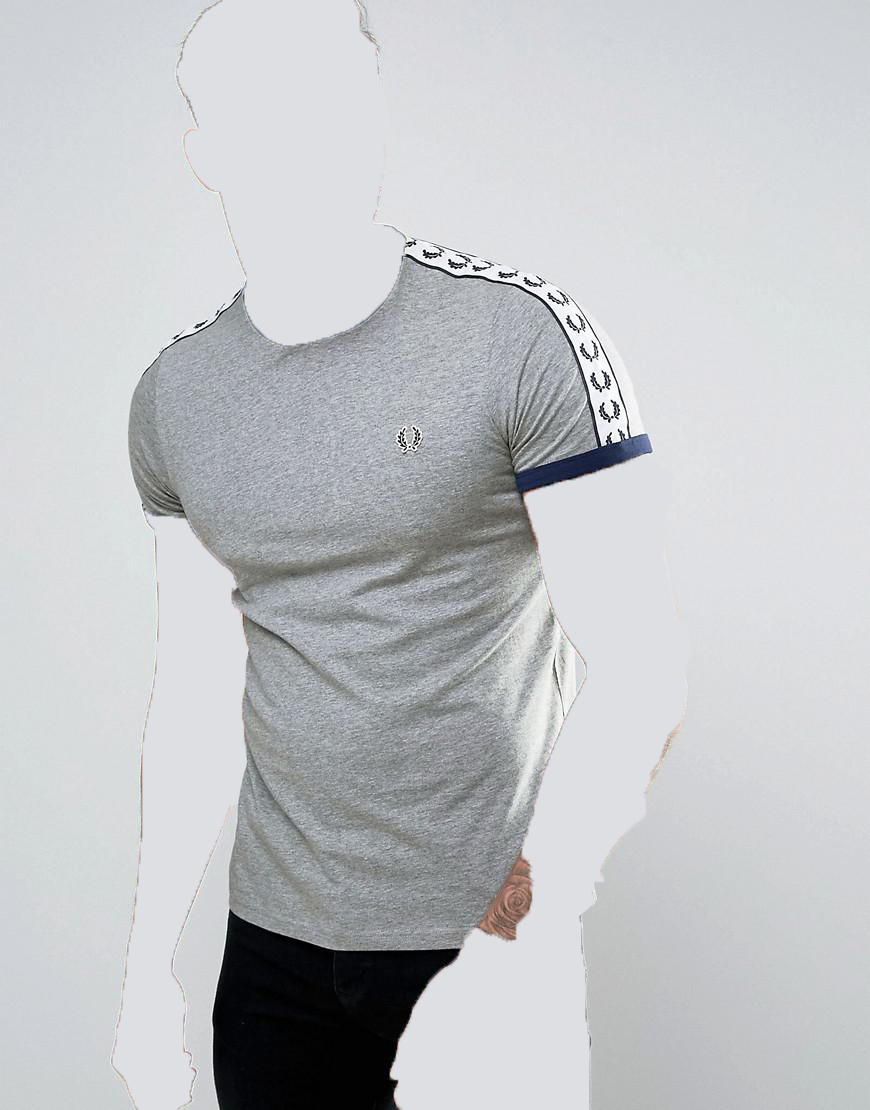teeshirt: (125, 232, 683, 956)
